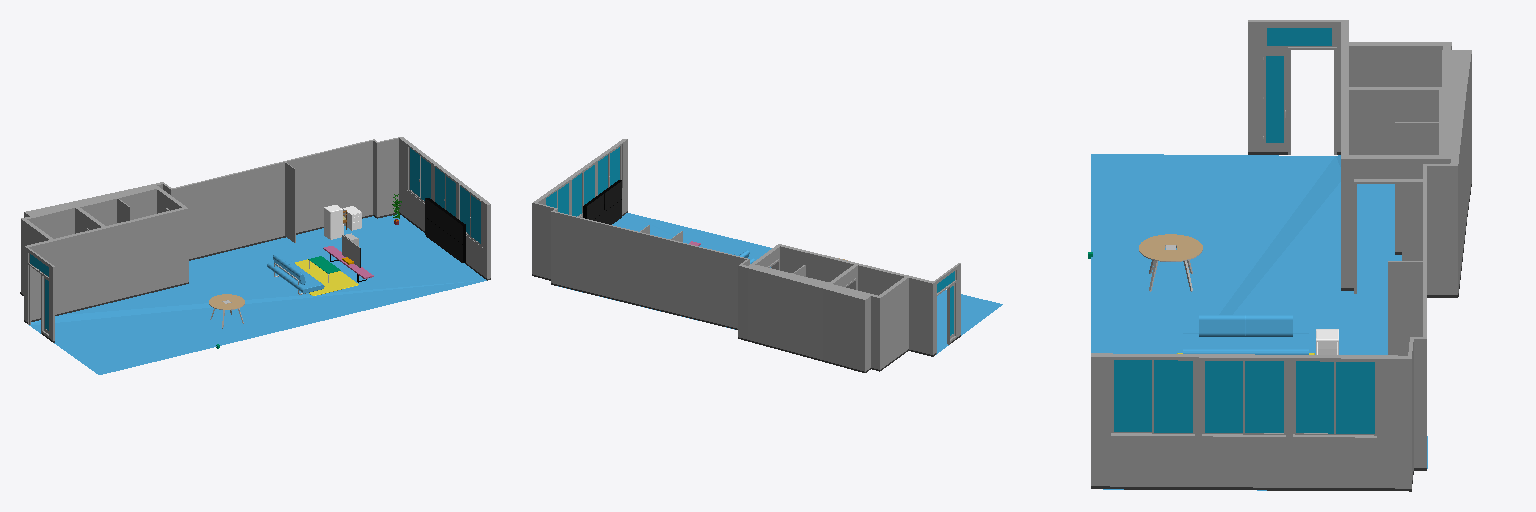
URDF robot description (environment):
<?xml version="1.0"?>
<robot name="environment">

  <!-- ========== basic link ========== -->
  <link name="start_position"/>

<!--   <joint name="world_x_joint" type="prismatic">
    <parent link="origin_position"/>
    <child link="world_x_link"/>
    <origin xyz="0 0 0" rpy="0 0 0"/>
    <limit effort="1000.0" lower="-5." upper="5." velocity="0.5"/>
  </joint>

  <link name="world_x_link"/>

  <joint name="world_y_joint" type="prismatic">
    <parent link="world_x_link"/>
    <child link="world_y_link"/>
    <origin xyz="0 0 0" rpy="0 0 0"/>
    <limit effort="1000.0" lower="-5." upper="5." velocity="0.5"/>
  </joint>

  <link name="world_y_link"/>
  
  <joint name="world_theta_joint" type="continuous">
    <parent link="world_y_link"/>
    <child link="base_footprint"/>
    <origin xyz="0 0 0" rpy="0 0 0"/>
    <axis xyz="0 0 1"/>
  </joint>

  <link name="base_footprint"/> -->

<!--   <joint name="base_footprint_joint" type="fixed">  
    <parent link="base_footprint"/>
    <child link="base_link"/>
    <origin xyz="0 0 0" rpy="0 0 0"/>
  </joint> -->

  <!-- ========== robots ========== -->  

  <!-- ========== environment ========== -->



  <joint name="world_joint" type="fixed">
    <parent link="start_position"/>
    <child link="bsen_room"/>
    <origin xyz="0 0 0" rpy="0 0 0"/>
  </joint>

  <link name="bsen_room">
    <visual>
      <geometry>
        <mesh filename="package://environmental_model/model/bsen.dae"/>
      </geometry>
      <origin xyz="0 0 0" rpy="0 0 0"/>
    </visual>
  </link>

  <joint name="bsen_origin_joint" type="fixed">
    <parent link="bsen_room"/>
    <child link="bsen_origin"/>
    <origin xyz="4.5 0 0" rpy="0 0 0"/>
  </joint>

  <link name="bsen_origin">
    <visual>
      <geometry>
        <box size="0.1 0.1 0.1"/>
      </geometry>
      <origin xyz="0 0 0" rpy="0 0 0"/>
    </visual>
  </link>

  <joint name="bsen_room_to_wall" type="fixed">
    <parent link="bsen_room"/>
    <child link="bsen_wall"/>
    <origin xyz="0 0 0"/>
  </joint>

  <link name="bsen_wall">
    <visual>
      <geometry>
        <mesh filename="package://environmental_model/model/bsen_wall.dae"/>
      </geometry>
      <origin xyz="0. 0. 0." rpy="0 0 0"/>
    </visual>
  </link>

  <joint name="bsen_room_to_celling" type="fixed">
    <parent link="bsen_room"/>
    <child link="bsen_celling"/>
    <origin xyz="0 0 0"/>
  </joint>

  <link name="bsen_celling">
    <visual>
      <geometry>
        <mesh filename="package://environmental_model/model/bsen_celling.dae"/>
      </geometry>
      <origin xyz="0. 0. 2.3" rpy="0 0 0"/>
    </visual>
  </link>

  <joint name="bsen_room_to_kitchen" type="fixed">
    <parent link="bsen_origin"/>
    <child link="kitchen"/>
    <origin xyz="0 0 0"/>
  </joint>

  <link name="kitchen">
    <visual>
      <geometry>
        <mesh filename="package://environmental_model/model/kitchen.dae"/>
      </geometry>
      <origin xyz="4.76 5.9 0.4855" rpy="0 0 -1.57079633"/>
    </visual>
  </link>

  <joint name="bsen_room_to_chair" type="fixed">
    <parent link="bsen_origin"/>
    <child link="chair"/>
    <origin xyz="0 0 0"/>
  </joint>

  <link name="chair">
    <visual>
      <geometry>
        <mesh filename="package://environmental_model/model/chair.dae"/>
      </geometry>
      <origin xyz="7.8 5.62 0.51" rpy="0 0 1.57079633"/>
    </visual>
  </link>

  <joint name="bsen_room_to_refrigerator" type="fixed">
    <parent link="bsen_origin"/>
    <child link="refrigerator"/>
    <origin xyz="0 0 0"/>
  </joint>

  <link name="refrigerator">
    <visual>
      <geometry>
        <mesh filename="package://environmental_model/model/refrigerator.dae"/>
      </geometry>
      <origin xyz="7.2 4.2 0.56" rpy="0 0 0"/>
    </visual>
  </link>

  <joint name="bsen_room_to_meeting_chair1" type="fixed">
    <parent link="bsen_origin"/>
    <child link="meeting_chair1"/>
    <origin xyz="0 0 0"/>
  </joint>

  <link name="meeting_chair1">
    <visual>
      <geometry>
        <mesh filename="package://environmental_model/model/meeting_chair.dae"/>
      </geometry>
      <origin xyz="1.2 2.1 0.3978" rpy="0 0 -1.57079633"/>
    </visual>
  </link>

  <joint name="bsen_room_to_meeting_chair2" type="fixed">
    <parent link="bsen_origin"/>
    <child link="meeting_chair2"/>
    <origin xyz="0 0 0"/>
  </joint>

  <link name="meeting_chair2">
    <visual>
      <geometry>
        <mesh filename="package://environmental_model/model/meeting_chair.dae"/>
      </geometry>
      <origin xyz="0.6 1.5 0.3978" rpy="0 0 0"/>
    </visual>
  </link>

   <joint name="bsen_room_to_meeting_chair3" type="fixed">
    <parent link="bsen_origin"/>
    <child link="meeting_chair3"/>
    <origin xyz="0 0 0"/>
  </joint>

  <link name="meeting_chair3">
    <visual>
      <geometry>
        <mesh filename="package://environmental_model/model/meeting_chair.dae"/>
      </geometry>
      <origin xyz="1.2 0.9 0.3978" rpy="0 0 1.57079633"/>
    </visual>
  </link>

   <joint name="bsen_room_to_meeting_chair4" type="fixed">
    <parent link="bsen_origin"/>
    <child link="meeting_chair4"/>
    <origin xyz="0 0 0"/>
  </joint>

  <link name="meeting_chair4">
    <visual>
      <geometry>
        <mesh filename="package://environmental_model/model/meeting_chair.dae"/>
      </geometry>
      <origin xyz="1.8 1.5 0.3978" rpy="0 0 3.14159265"/>
    </visual>
  </link>

  <joint name="bsen_room_to_meeting_table" type="fixed">
    <parent link="bsen_origin"/>
    <child link="meeting_table"/>
    <origin xyz="0 0 0"/>
  </joint>
      
  <link name="meeting_table">
    <visual>
      <geometry>
        <mesh filename="package://environmental_model/model/meeting_table.dae"/>
      </geometry>
      <origin xyz="1.2 1.5 0.36" rpy="0 0 0"/>
    </visual>
  </link>


  <joint name="bsen_room_to_tree" type="fixed">
    <parent link="bsen_origin"/>
    <child link="tree"/>
    <origin xyz="0 0 0"/>
  </joint>

  <link name="tree">
    <visual>
      <geometry>
        <mesh filename="package://environmental_model/model/tree.dae"/>
      </geometry>
      <origin xyz="9.8 5.3 0." rpy="0 0 0"/>
    </visual>
  </link>

  <joint name="bsen_room_to_tv_table" type="fixed">
    <parent link="bsen_origin"/>
    <child link="tv_table"/>
    <origin xyz="0 0 0"/>
  </joint>

  <link name="tv_table">
    <visual>
      <geometry>
        <mesh filename="package://environmental_model/model/tv_table.dae"/>
      </geometry>
      <origin xyz="6.6 2.9 0.175" rpy="0 0 0"/>
    </visual>
  </link>

  <joint name="bsen_room_to_tv_52" type="fixed">
    <parent link="bsen_origin"/>
    <child link="tv_52"/>
    <origin xyz="0 0 0"/>
  </joint>

  <link name="tv_52">
    <visual>
      <geometry>
        <mesh filename="package://environmental_model/model/tv_52.dae"/>
      </geometry>
      <origin xyz="6.7 2.9 0.7085" rpy="0 0 -1.57079633"/>
    </visual>
  </link>

  <joint name="bsen_room_to_recorder" type="fixed">
    <parent link="bsen_origin"/>
    <child link="recorder"/>
    <origin xyz="0 0 0"/>
  </joint>

  <link name="recorder">
    <visual>
      <geometry>
        <mesh filename="package://environmental_model/model/recorder.dae"/>
      </geometry>
      <origin xyz="6.6 2.9 0.3805" rpy="0 0 3.14159265"/>
    </visual>
  </link>

  <joint name="bsen_room_to_sofa" type="fixed">
    <parent link="bsen_origin"/>
    <child link="sofa"/>
    <origin xyz="0 0 0"/>
  </joint>

  <link name="sofa">
    <visual>
      <geometry>
        <mesh filename="package://environmental_model/model/sofa.dae"/>
      </geometry>
      <origin xyz="4.6 2.9 0.395" rpy="0 0 0"/>
    </visual>
  </link>

  <joint name="bsen_room_to_sofa_table" type="fixed">
    <parent link="bsen_origin"/>
    <child link="sofa_table"/>
    <origin xyz="0 0 0"/>
  </joint>

  <link name="sofa_table">
    <visual>
      <geometry>
        <mesh filename="package://environmental_model/model/sofa_table.dae"/>
      </geometry>
      <origin xyz="5.7 2.9 0.235" rpy="0 0 0"/>
    </visual>
  </link>

  <joint name="bsen_room_to_carpet" type="fixed">
    <parent link="bsen_origin"/>
    <child link="carpet"/>
    <origin xyz="0 0 0"/>
  </joint>

  <link name="carpet">
    <visual>
      <geometry>
        <mesh filename="package://environmental_model/model/carpet.dae"/>
      </geometry>
      <origin xyz="5.4 2.9 0.1" rpy="0 0 0"/>
    </visual>
  </link>

  <joint name="bsen_room_to_drawer" type="fixed">
    <parent link="bsen_origin"/>
    <child link="drawer"/>
    <origin xyz="0 0 0"/>
  </joint>

  <link name="drawer">
    <visual>
      <geometry>
        <mesh filename="package://environmental_model/model/drawer.dae"/>
      </geometry>
      <origin xyz="8.43 5.8 0.303" rpy="0 0 -1.57079633"/>
    </visual>
  </link>

  <joint name="bsen_room_to_bed" type="fixed">
    <parent link="bsen_origin"/>
    <child link="bed"/>
    <origin xyz="0 0 0"/>
  </joint>

  <link name="bed">
    <visual>
      <geometry>
        <mesh filename="package://environmental_model/model/bed.dae"/>
      </geometry>
      <origin xyz="7.98 2.3 0.2075" rpy="0 0 0"/>
    </visual>
  </link>

  <joint name="bsen_room_to_wordrobe" type="fixed">
    <parent link="bsen_origin"/>
    <child link="wordrobe"/>
    <origin xyz="0 0 0"/>
  </joint>

  <link name="wordrobe">
    <visual>
      <geometry>
        <mesh filename="package://environmental_model/model/wordrobe.dae"/>
      </geometry>
      <origin xyz="9.2 5.9 1.3" rpy="0 0 -1.57079633"/>
    </visual>
  </link>

  <joint name="bsen_room_to_workdesk" type="fixed">
    <parent link="bsen_origin"/>
    <child link="workdesk"/>
    <origin xyz="0 0 0"/>
  </joint>

  <link name="workdesk">
    <visual>
      <geometry>
        <mesh filename="package://environmental_model/model/work_desk.dae"/>
      </geometry>
      <origin xyz="7.55 5.9 0.5" rpy="0 0 -1.57079633"/>
    </visual>
  </link>

  <joint name="bsen_room_to_tv_multi" type="fixed">
    <parent link="bsen_origin"/>
    <child link="tv_multi"/>
    <origin xyz="0 0 0"/>
  </joint>

  <link name="tv_multi">
    <visual>
      <geometry>
        <mesh filename="package://environmental_model/model/tv_multi.dae"/>
      </geometry>
      <origin xyz="9.87 2.2 1.0" rpy="0 0 -1.57079633"/>
    </visual>
  </link>

  <joint name="bsen_room_to_intelingent_shelf" type="fixed">
    <parent link="bsen_origin"/>
    <child link="intelingent_shelf"/>
    <origin xyz="0 0 0"/>
  </joint>

  <link name="intelingent_shelf">
    <visual>
      <geometry>
        <mesh filename="package://environmental_model/model/intelingent_shelf.dae"/>
      </geometry>
      <origin xyz="7.06 3.520 0.445" rpy="0 0 0"/>
    </visual>
  </link>

<!--   <joint name="bsen_room_to_wagon" type="fixed">
    <parent link="bsen_origin"/>
    <child link="wagon"/>
    <origin xyz="0 0 0"/>
  </joint> -->

  <link name="wagon">
    <visual>
      <geometry>
        <mesh filename="package://environmental_model/model/wagon.dae"/>
      </geometry>
      <origin xyz="0. 0. 0.5" rpy="0 0 1.57079633"/>
    </visual>
  </link>

  <!-- ========== Movable object ========== -->

  <link name="wagon_x_link"/>
  <joint name="wagon_x_joint" type="prismatic">
    <parent link="start_position"/>
    <child link="wagon_x_link"/>
    <origin xyz="0 0 0" rpy="0 0 0"/>
    <limit effort="1000.0" lower="0." upper="15." velocity="0.5"/>
  </joint>

  <link name="wagon_y_link"/>
  <joint name="wagon_y_joint" type="prismatic">
    <parent link="wagon_x_link"/>
    <child link="wagon_y_link"/>
    <origin xyz="0 0 0" rpy="0 0 1.57079633"/>
    <limit effort="1000.0" lower="0." upper="7." velocity="0.5"/>
  </joint>

  <joint name="wagon_theta_joint" type="continuous">
    <parent link="wagon_y_link"/>
    <child link="wagon"/>
    <origin xyz="0 0 0" rpy="0 0 0"/>
    <axis xyz="0 0 1"/>
  </joint>

</robot>

<!-- 90  degree to radian 1.57079633 -->
<!-- 180 degree to radian 3.14159265 -->

--- Facts derived from the render (not from the file) ---
Views: 3 orthographic renders of the robot side by side, from view 1: azimuth 30°, elevation 25°; view 2: azimuth 150°, elevation 25°; view 3: azimuth 270°, elevation 25°.
Robot: environment — 29 links, 28 joints (1 continuous, 2 prismatic, 25 fixed); root link start_position; default pose: every joint at zero.
Visible links, largest first — view 1: bsen_room, tv_multi, sofa, carpet, refrigerator, meeting_table; view 2: bsen_room, tv_multi; view 3: bsen_room, sofa, meeting_table, refrigerator.
Link boxes in pixels (x1=…): bsen_room: x1=20, y1=137, x2=490, y2=374; tv_multi: x1=425, y1=198, x2=465, y2=262; sofa: x1=267, y1=255, x2=324, y2=294; carpet: x1=295, y1=259, x2=358, y2=295; refrigerator: x1=324, y1=205, x2=343, y2=239; meeting_table: x1=209, y1=294, x2=244, y2=328; bsen_room: x1=532, y1=139, x2=1002, y2=372; tv_multi: x1=583, y1=180, x2=621, y2=224; bsen_room: x1=1091, y1=20, x2=1471, y2=491; sofa: x1=1183, y1=315, x2=1308, y2=354; meeting_table: x1=1139, y1=234, x2=1202, y2=291; refrigerator: x1=1316, y1=329, x2=1338, y2=354.
Size in the robot's own frame: 14.97 by 7.17 by 2.78 metres.
14 mesh visuals loaded from 22 distinct referenced files (14 Collada DAE); not drawn: 9 (reference not matched to a file when rendering), 2 (file found but could not be loaded).